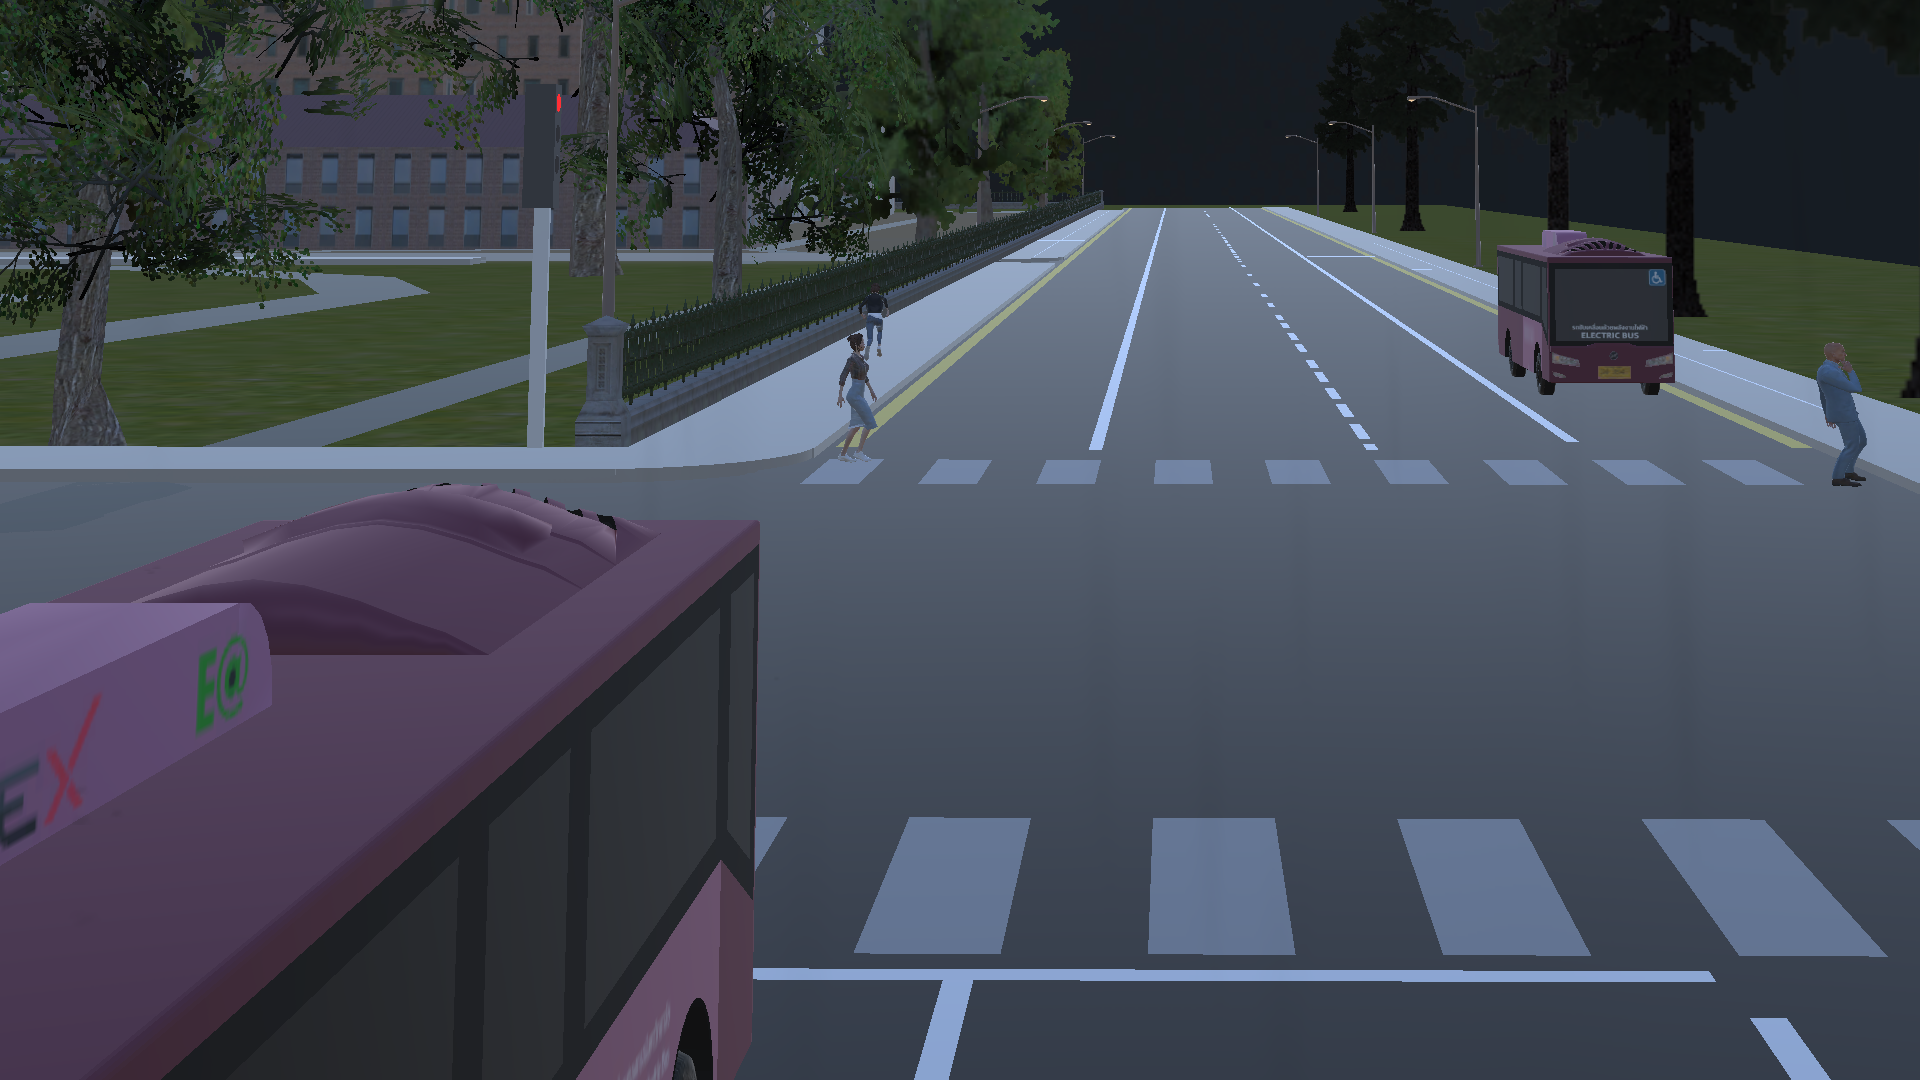pedestrian: (1810, 330, 1895, 494), (836, 330, 887, 481), (857, 284, 901, 359)
